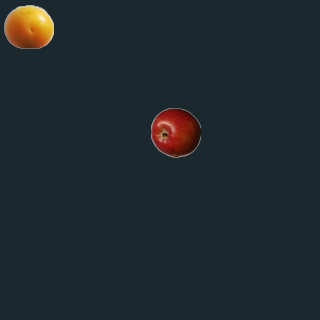Apple Braeburn: (150, 107, 200, 157)
Cherry Wax Yellow: (3, 1, 53, 51)
